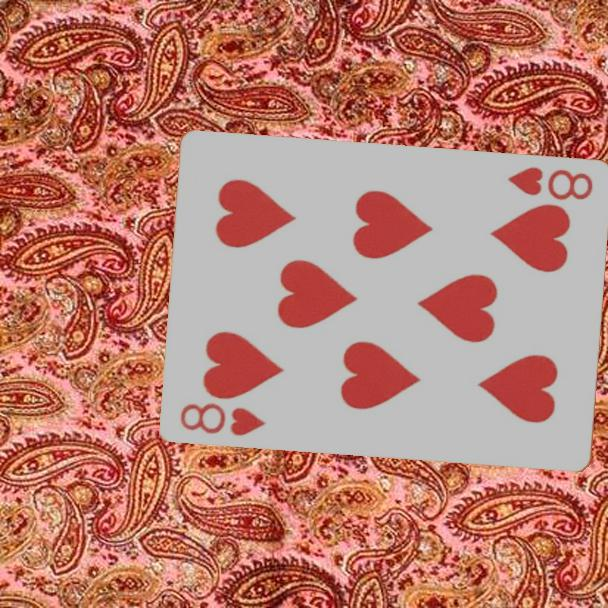h08: (504, 164, 596, 204), (176, 400, 267, 439)
